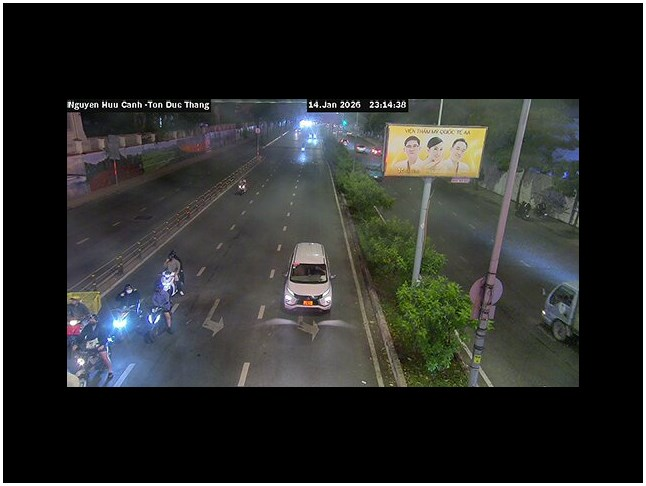car: (283, 241, 334, 310), (540, 282, 577, 342)
